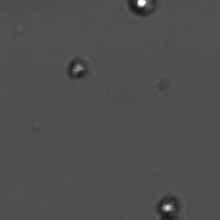Dead Cell: (64, 56, 88, 78)
Living Cell: (156, 193, 180, 216), (127, 1, 158, 16)
